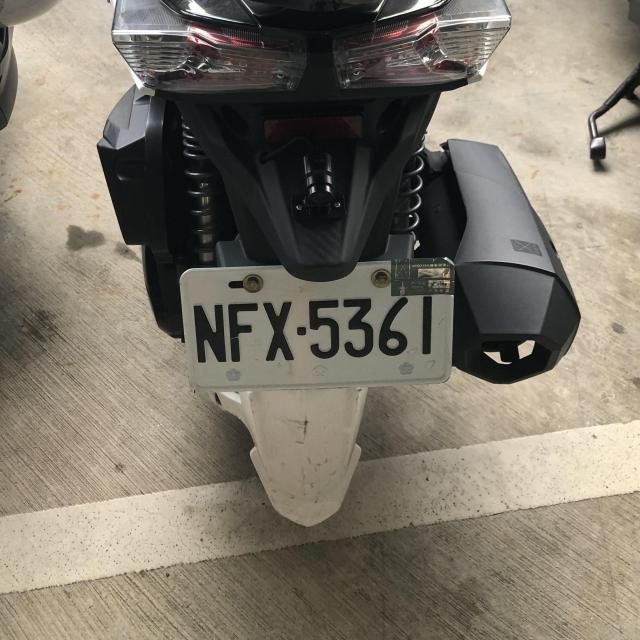W: (176, 257, 454, 394)
